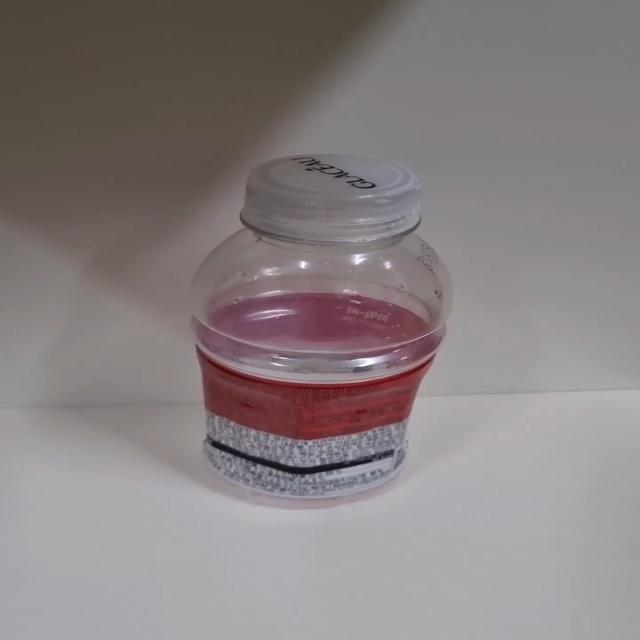Plastic: (188, 153, 454, 511)
